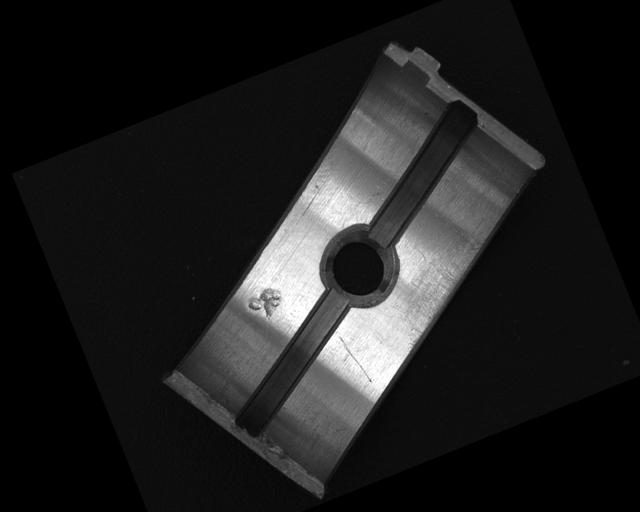bruise: (242, 283, 291, 328)
gap: (332, 96, 510, 252), (204, 287, 381, 440)
hole: (307, 213, 409, 317)
nick: (336, 328, 373, 388)
scratch: (371, 220, 515, 353)
